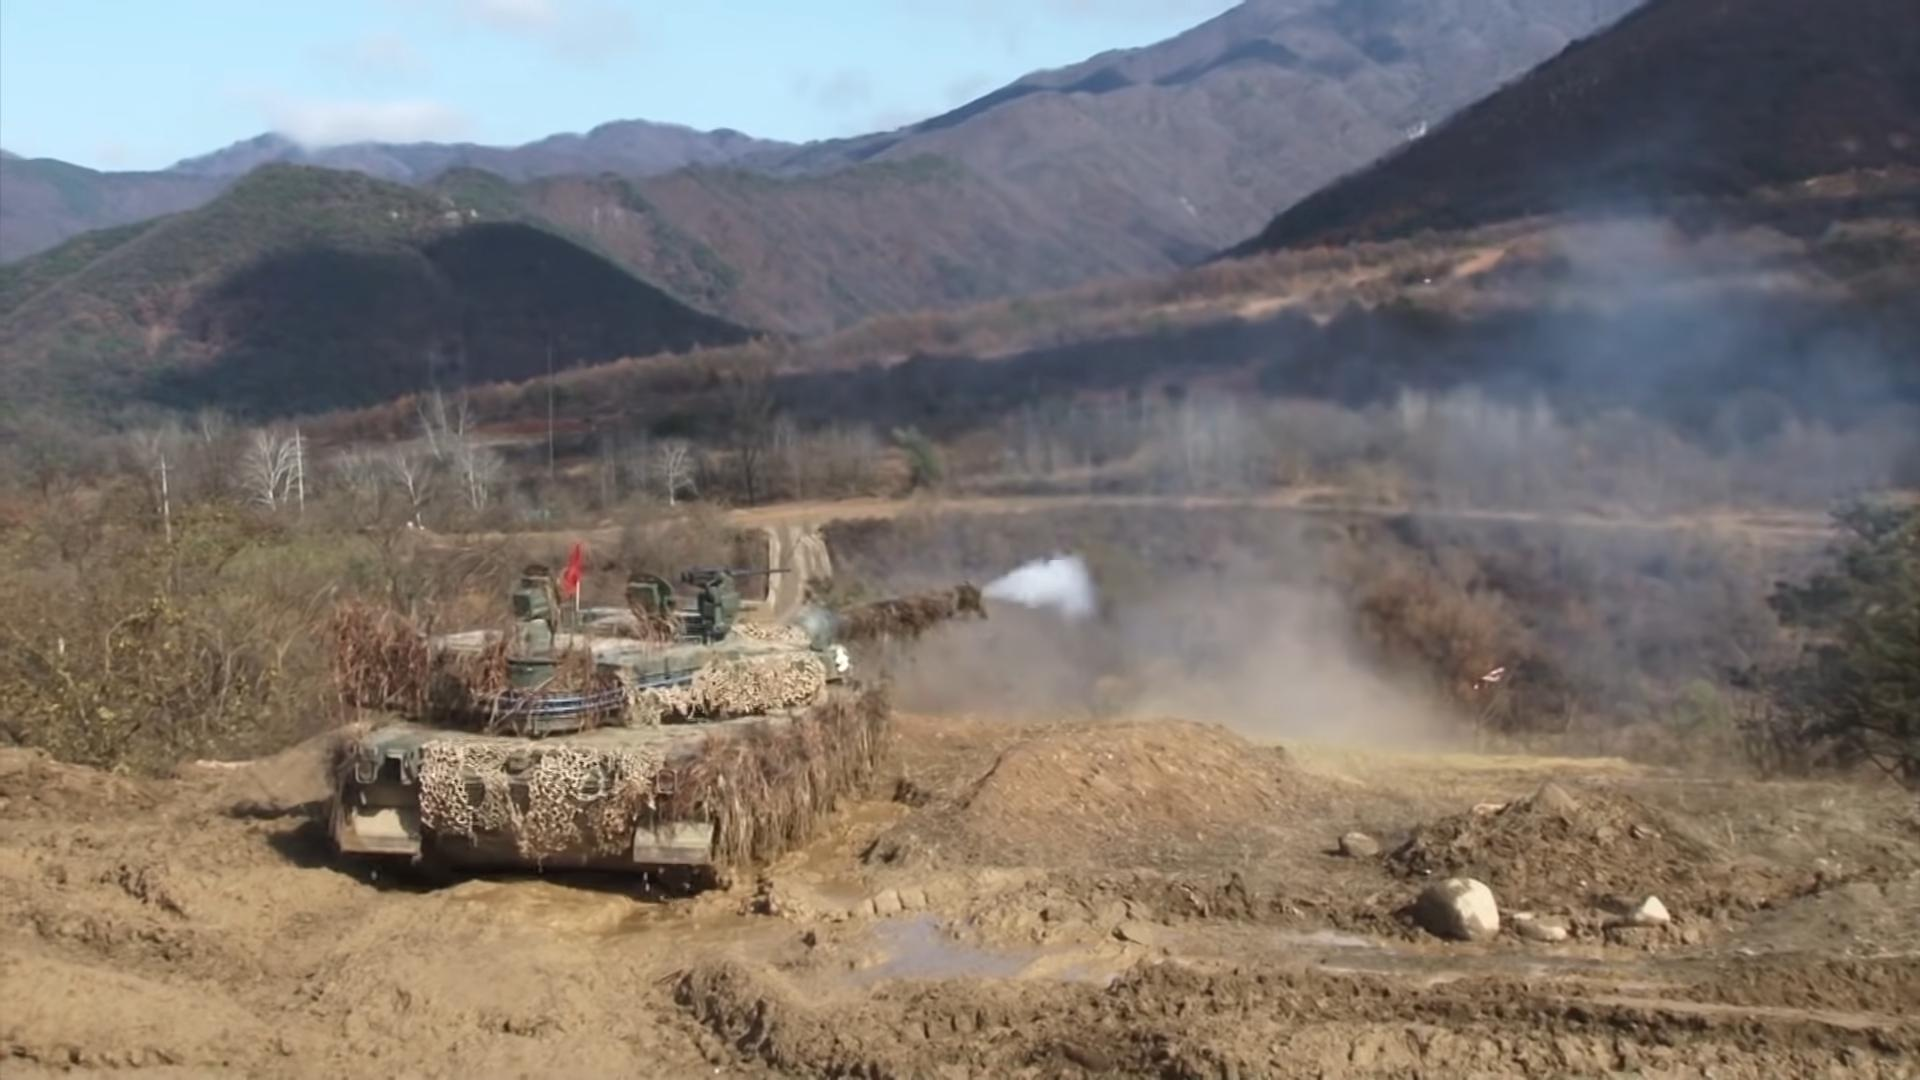tank: (319, 564, 985, 893)
